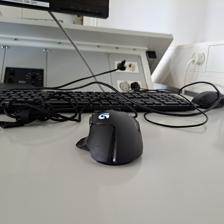mouse: (75, 108, 143, 166)
